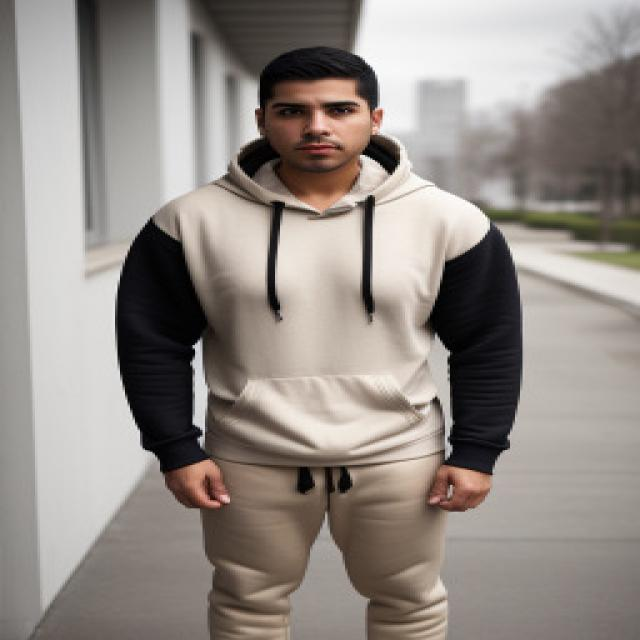Ai human 2: (102, 30, 547, 640)
